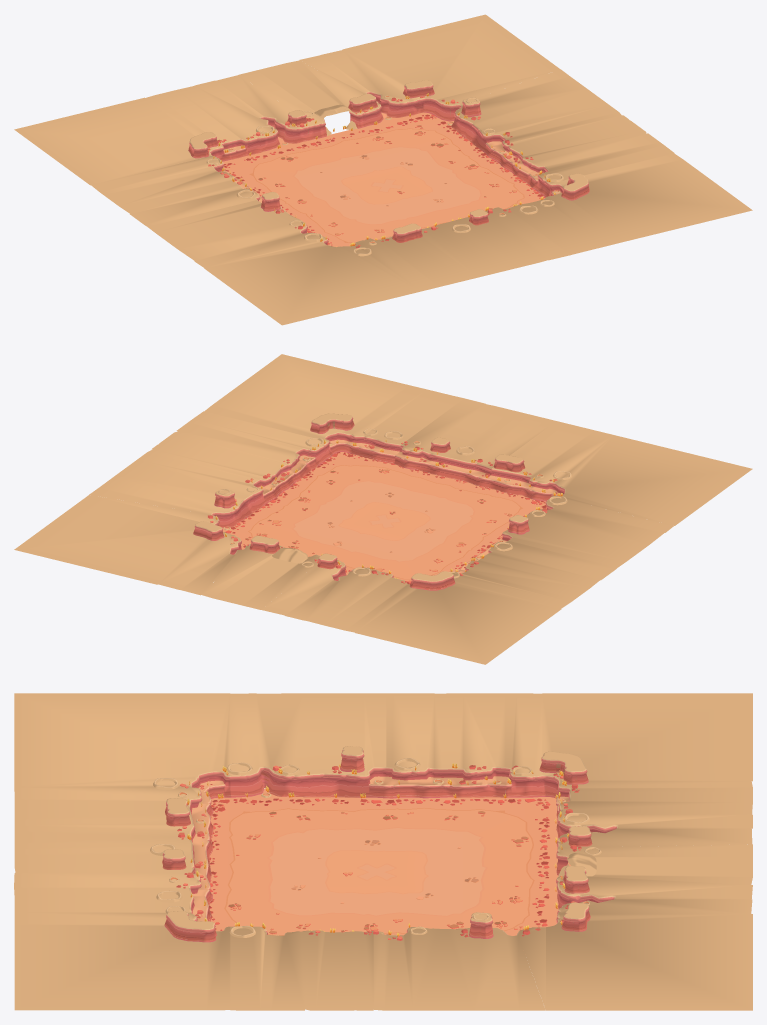
The model's file is desert_graveyard.glb.
3 views of the same model, one above another, from view 1: azimuth 30°, elevation 25°; view 2: azimuth 150°, elevation 25°; view 3: azimuth 270°, elevation 25° (orthographic). The views are drawn at different scales.
Parts seen in each view (by area): view 1: bgr_canyon_showdown_ground_bgr_canyon.001_0, bgr_canyon_showdown_top_a, bgr_canyon_showdown_bottom_a, bgr_canyon_showdown_bottom_c, bgr_canyon_showdown_top_c, bgr_canyon_showdown_right_a, bgr_canyon_showdown_top_b, bgr_canyon_showdown_right_b, bgr_canyon_showdown_left_b, bgr_canyon_showdown_left_a, bgr_canyon_showdown_bottom_b; view 2: bgr_canyon_showdown_ground_bgr_canyon.001_0, bgr_canyon_showdown_bottom_a, bgr_canyon_showdown_top_a, bgr_canyon_showdown_bottom_c, bgr_canyon_showdown_top_c, bgr_canyon_showdown_right_a, bgr_canyon_showdown_bottom_b, bgr_canyon_showdown_right_b, bgr_canyon_showdown_top_b, bgr_canyon_showdown_left_b, bgr_canyon_showdown_left_a; view 3: bgr_canyon_showdown_ground_bgr_canyon.001_0, bgr_canyon_showdown_bottom_a, bgr_canyon_showdown_top_a, bgr_canyon_showdown_bottom_c, bgr_canyon_showdown_top_c, bgr_canyon_showdown_left_a, bgr_canyon_showdown_left_b, bgr_canyon_showdown_right_a, bgr_canyon_showdown_top_b, bgr_canyon_showdown_bottom_b, bgr_canyon_showdown_right_b, bgr_canyon_showdown_left_a_props (+2 smaller).
Part boxes in pixels (x1,y1,x2,y2): bgr_canyon_showdown_ground_bgr_canyon.001_0: (222,112,545,246); bgr_canyon_showdown_top_a: (14,80,284,185); bgr_canyon_showdown_bottom_a: (204,223,477,325); bgr_canyon_showdown_bottom_c: (507,153,752,254); bgr_canyon_showdown_top_c: (320,14,560,118); bgr_canyon_showdown_right_a: (432,69,621,159); bgr_canyon_showdown_top_b: (215,55,383,143); bgr_canyon_showdown_right_b: (494,115,674,197); bgr_canyon_showdown_left_b: (147,192,325,267); bgr_canyon_showdown_left_a: (91,155,262,226); bgr_canyon_showdown_bottom_b: (421,207,570,277); bgr_canyon_showdown_ground_bgr_canyon.001_0: (222,452,546,581); bgr_canyon_showdown_bottom_a: (485,421,752,525); bgr_canyon_showdown_top_a: (285,567,561,664); bgr_canyon_showdown_bottom_c: (205,354,463,463); bgr_canyon_showdown_top_c: (14,495,241,589); bgr_canyon_showdown_right_a: (89,449,278,531); bgr_canyon_showdown_bottom_b: (394,398,556,487); bgr_canyon_showdown_right_b: (151,411,331,494); bgr_canyon_showdown_top_b: (180,535,346,615); bgr_canyon_showdown_left_b: (495,496,673,567); bgr_canyon_showdown_left_a: (452,541,617,608); bgr_canyon_showdown_ground_bgr_canyon.001_0: (209,788,570,935); bgr_canyon_showdown_bottom_a: (14,693,231,843); bgr_canyon_showdown_top_a: (539,693,752,837); bgr_canyon_showdown_bottom_c: (14,887,230,1010); bgr_canyon_showdown_top_c: (546,899,752,1010); bgr_canyon_showdown_left_a: (383,693,542,798); bgr_canyon_showdown_left_b: (230,693,386,798); bgr_canyon_showdown_right_a: (373,912,545,1010); bgr_canyon_showdown_top_b: (555,826,752,909); bgr_canyon_showdown_bottom_b: (14,825,212,905); bgr_canyon_showdown_right_b: (230,926,373,1010); bgr_canyon_showdown_left_a_props: (394,758,533,798).
Bounding box in the file's own units: 132 × 7.58 × 130.
Materials: 4 (4 with a texture image).
